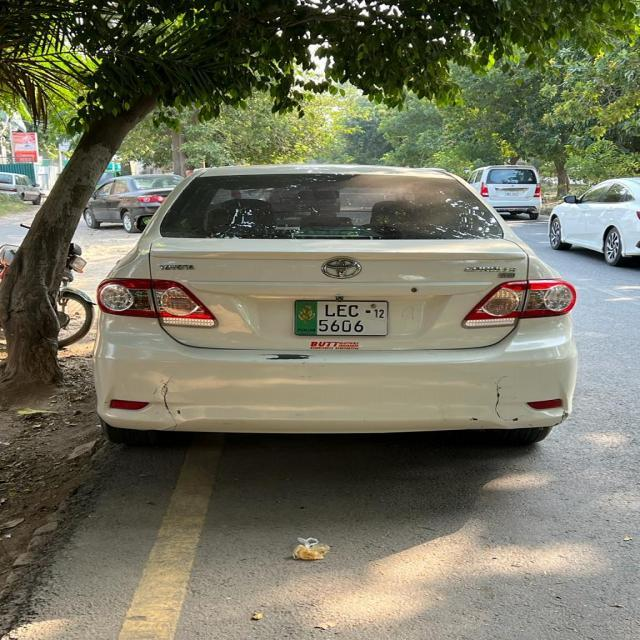scratch: (142, 376, 198, 430), (468, 374, 524, 428), (284, 324, 296, 388), (554, 410, 572, 421)
